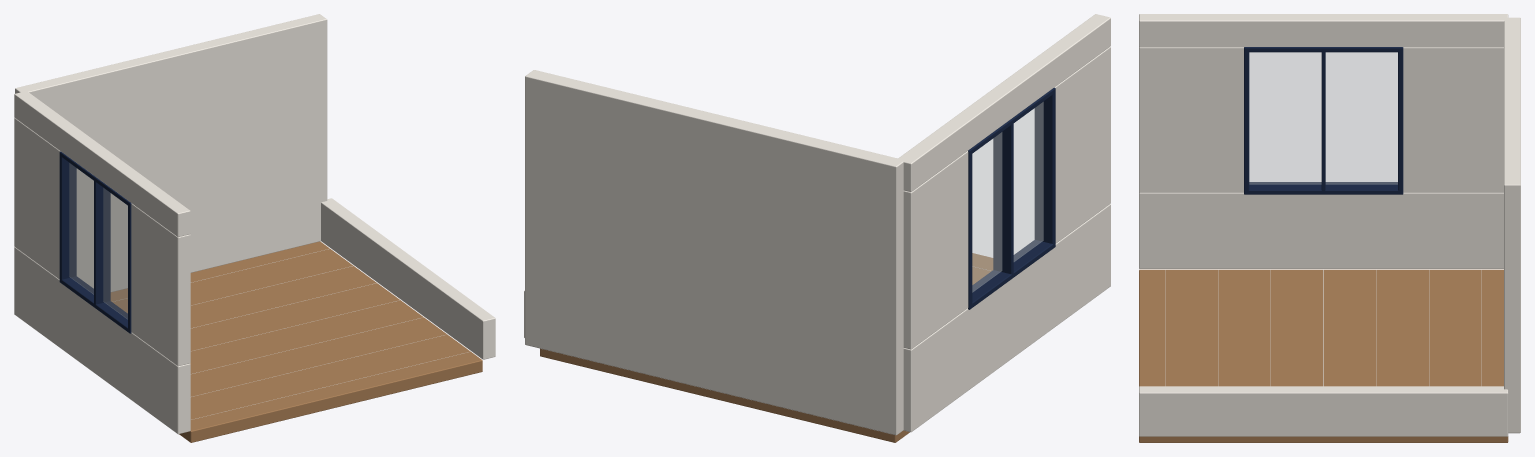
Rendered from 08_apartment.glb.
The picture shows the model from 3 angles, left to right: view 1: azimuth 30°, elevation 25°; view 2: azimuth 150°, elevation 25°; view 3: azimuth 270°, elevation 25°; orthographic projection. The views are drawn at different scales.
Visible parts, largest first — view 1: Apartment_Rear_Wall, Apartment_Floor, Wall_Below_Window, Right_Cutaway_Wall, Wall_Window_Side, Wall_Above_Window, Wall_Window_Side.001, Window_Glass, Window_Jamb.001, Window_Mullion, Window_Frame, Window_Jamb; view 2: Apartment_Rear_Wall, Wall_Below_Window, Wall_Window_Side.001, Wall_Above_Window, Wall_Window_Side, Window_Glass, Apartment_Floor, Window_Jamb, Window_Mullion, Window_Frame, Window_Jamb.001, Window_Frame.001; view 3: Apartment_Floor, Wall_Below_Window, Window_Glass, Right_Cutaway_Wall, Wall_Window_Side, Wall_Window_Side.001, Wall_Above_Window, Apartment_Rear_Wall, Window_Frame, Window_Frame.001, Window_Jamb.001, Window_Jamb (+1 smaller).
Boxes of the visible parts, x1,y1,x2,y2 form: Apartment_Rear_Wall: (15,14,327,292); Apartment_Floor: (110,241,482,442); Wall_Below_Window: (14,247,190,434); Right_Cutaway_Wall: (321,198,495,359); Wall_Window_Side: (131,203,190,366); Wall_Above_Window: (14,91,190,237); Wall_Window_Side.001: (14,117,60,279); Window_Glass: (69,163,127,319); Window_Jamb.001: (59,153,76,281); Window_Mullion: (94,180,110,304); Window_Frame: (59,276,131,333); Window_Jamb: (128,204,131,331); Apartment_Rear_Wall: (525,70,903,435); Wall_Below_Window: (903,204,1110,432); Wall_Window_Side.001: (903,151,968,349); Wall_Above_Window: (897,14,1110,191); Wall_Window_Side: (1054,46,1110,243); Window_Glass: (972,102,1043,292); Apartment_Floor: (540,253,993,442); Window_Jamb: (1034,90,1055,245); Window_Mullion: (993,123,1013,274); Window_Frame: (968,240,1055,309); Window_Jamb.001: (968,152,972,307); Window_Frame.001: (968,87,1055,154); Apartment_Floor: (1139,269,1508,442); Wall_Below_Window: (1139,192,1503,268); Window_Glass: (1249,52,1397,184); Right_Cutaway_Wall: (1139,386,1508,436); Wall_Window_Side: (1139,47,1243,192); Wall_Window_Side.001: (1403,47,1503,192); Wall_Above_Window: (1139,14,1508,47); Apartment_Rear_Wall: (1504,17,1520,433); Window_Frame: (1244,182,1403,194); Window_Frame.001: (1244,47,1403,52); Window_Jamb.001: (1398,49,1403,192); Window_Jamb: (1244,49,1249,192).
Size of the model in its own units: 3.93 by 2.74 by 3.62.
